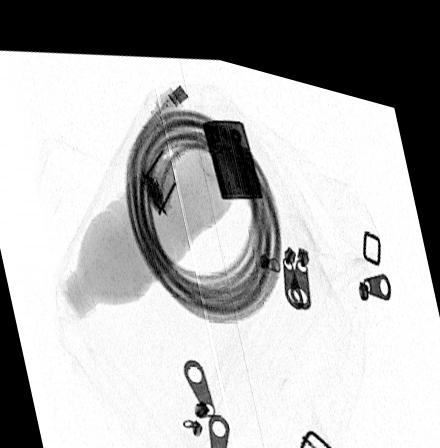Lighter: (201, 107, 263, 185)
